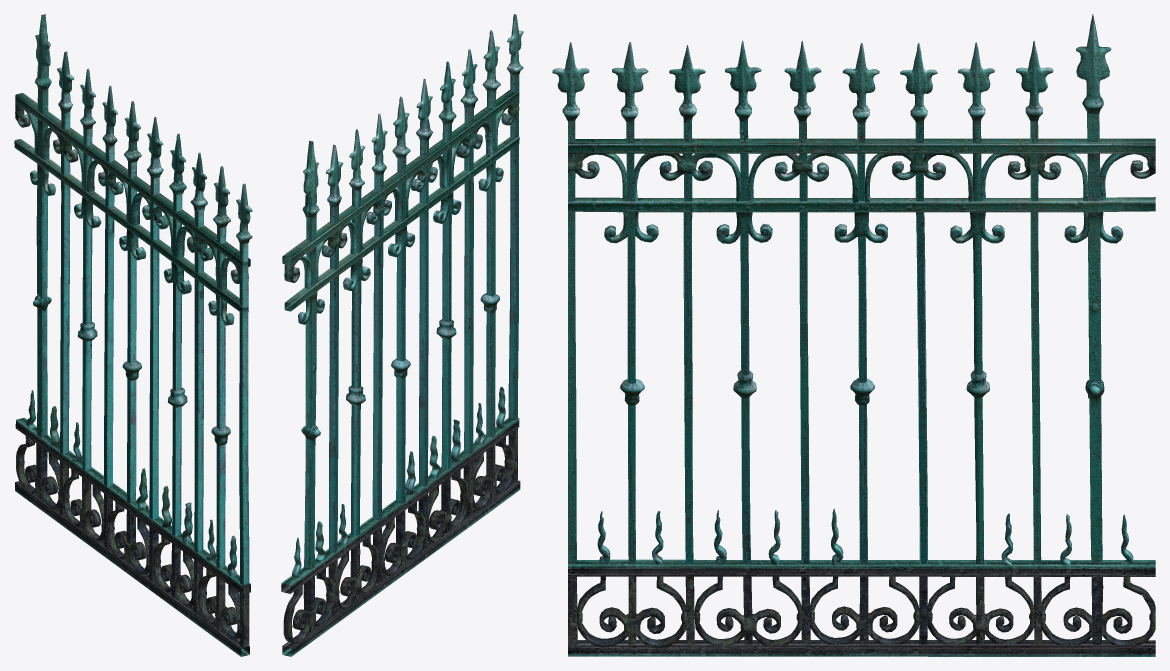
Rendered from sm_OldFence_02_01.fbx.
3 renders of one model, left to right at view 1: azimuth 30°, elevation 25°; view 2: azimuth 150°, elevation 25°; view 3: azimuth 270°, elevation 25°, orthographic. The views are drawn at different scales.
Visible parts, largest first — view 1: sm_OldFence_02_01_LOD0; view 2: sm_OldFence_02_01_LOD0; view 3: sm_OldFence_02_01_LOD0.
Boxes of the visible parts, box(x1,y1,x2,y2) form: sm_OldFence_02_01_LOD0: box(14, 14, 252, 656); sm_OldFence_02_01_LOD0: box(281, 14, 523, 656); sm_OldFence_02_01_LOD0: box(552, 14, 1155, 656).
Size of the model in its own units: 8.33 by 185 by 216.
